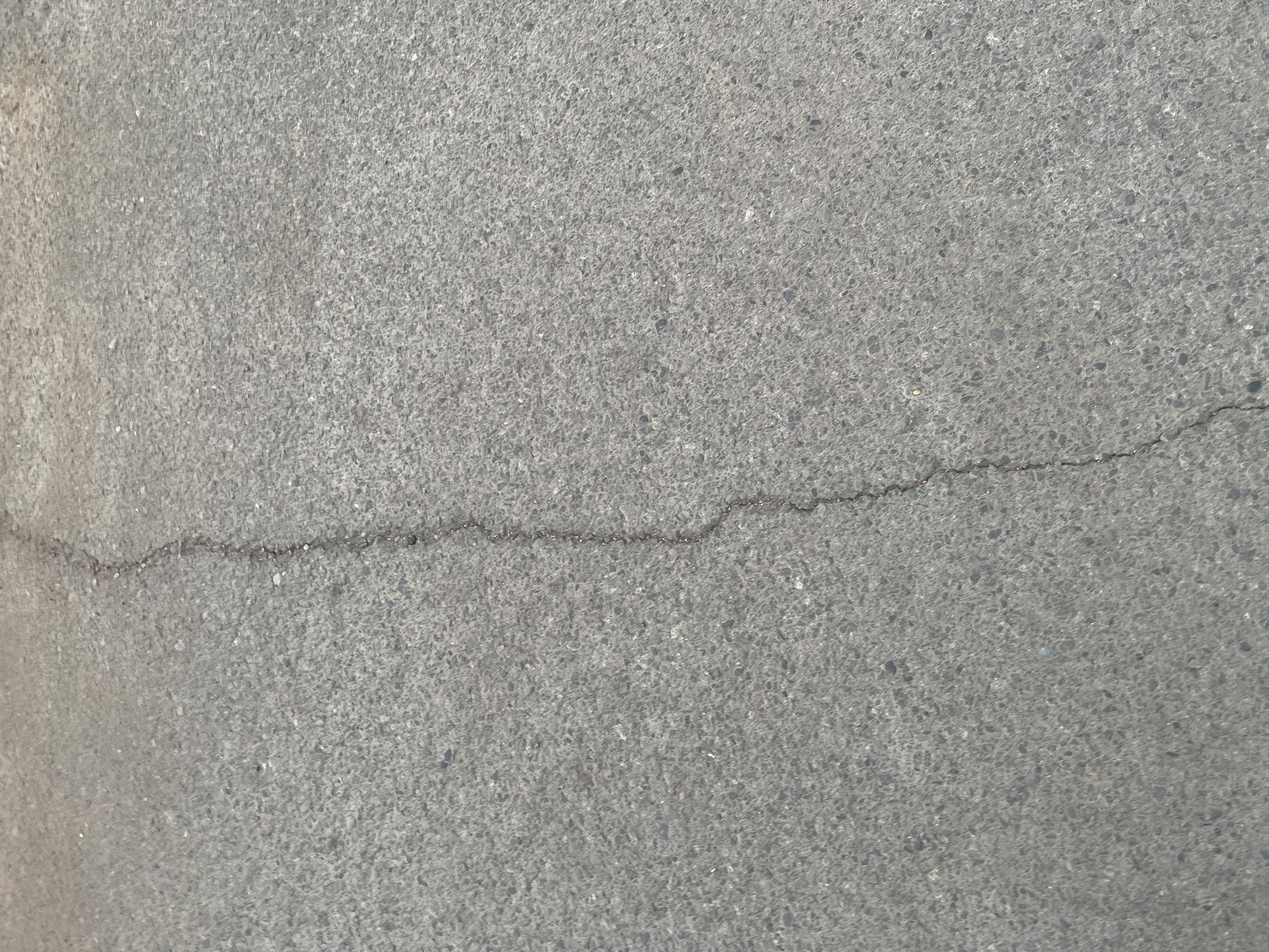GRIETA: (816, 402, 1269, 505), (0, 511, 434, 574), (433, 497, 825, 545)
